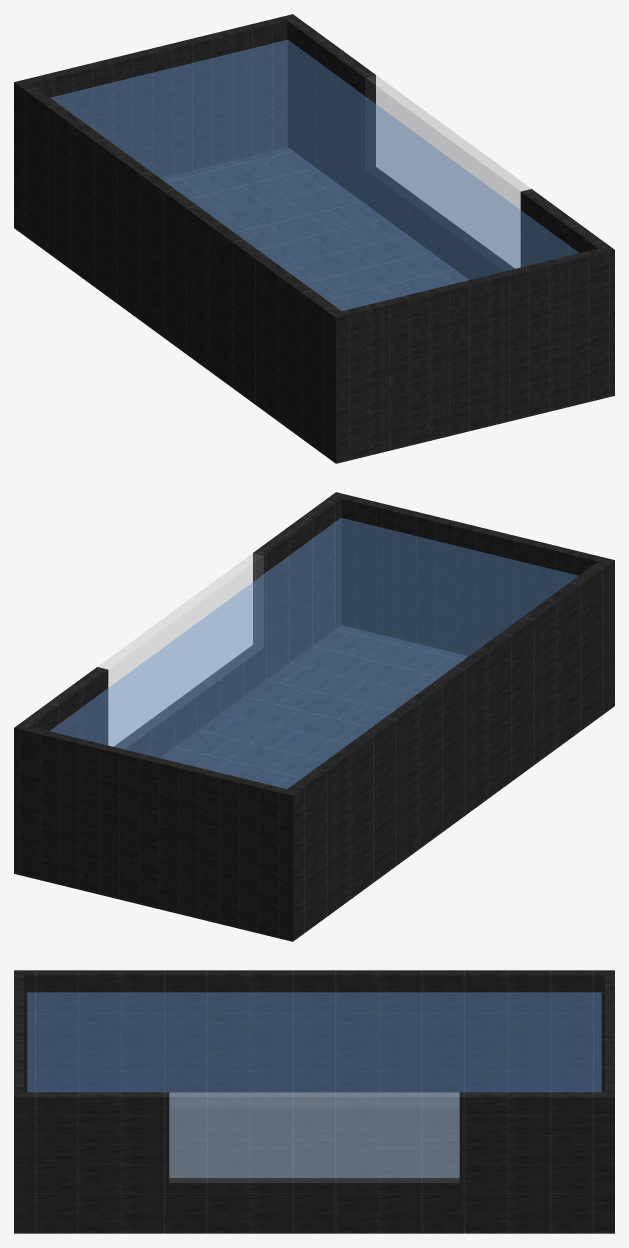
File: water_pool_low-poly_-_by_smakologg.glb
The picture shows the model from 3 angles, top to bottom: view 1: azimuth 30°, elevation 25°; view 2: azimuth 150°, elevation 25°; view 3: azimuth 270°, elevation 25°; orthographic projection. The views are drawn at different scales.
Parts seen in each view (by area): view 1: Object_4, Object_3, Object_2; view 2: Object_4, Object_3, Object_2; view 3: Object_4, Object_3, Object_2.
Boxes of the visible parts, x1,y1,x2,y2 form: Object_4: (14,14,614,463); Object_3: (51,40,578,310); Object_2: (365,75,530,268); Object_4: (14,492,614,941); Object_3: (50,518,577,788); Object_2: (98,553,263,746); Object_4: (14,970,614,1233); Object_3: (27,992,601,1177); Object_2: (169,1092,459,1182).
Bounding box in the file's own units: 4 × 2 × 8.
Materials: 3 (1 with a texture image).
